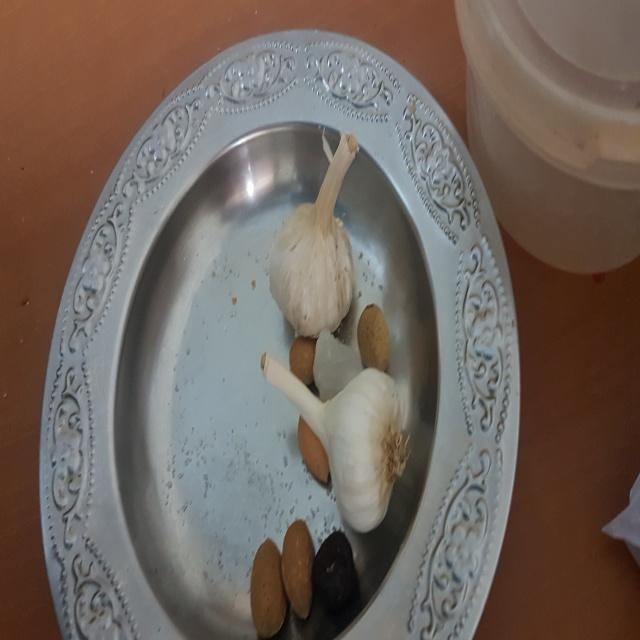garlic: (237, 348, 432, 530), (253, 131, 409, 339)
